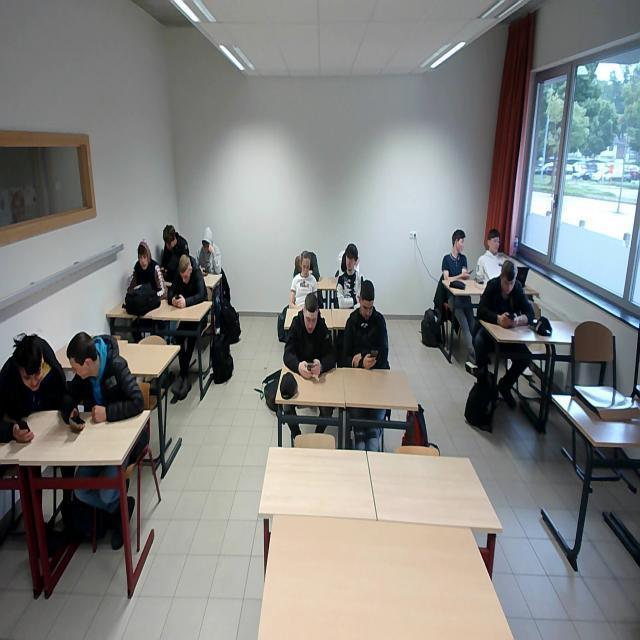Looking away: (302, 259, 310, 278), (490, 238, 500, 253), (346, 258, 354, 270), (457, 239, 464, 252)
Phone use: (64, 334, 144, 434), (0, 336, 65, 442), (340, 284, 392, 372), (286, 299, 336, 383), (478, 261, 534, 329), (165, 258, 208, 312), (188, 220, 224, 276), (148, 226, 184, 278)
